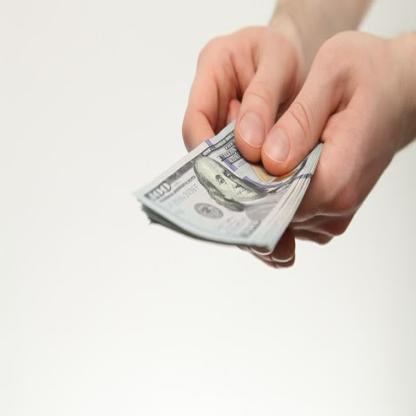billete: (133, 117, 327, 255)
